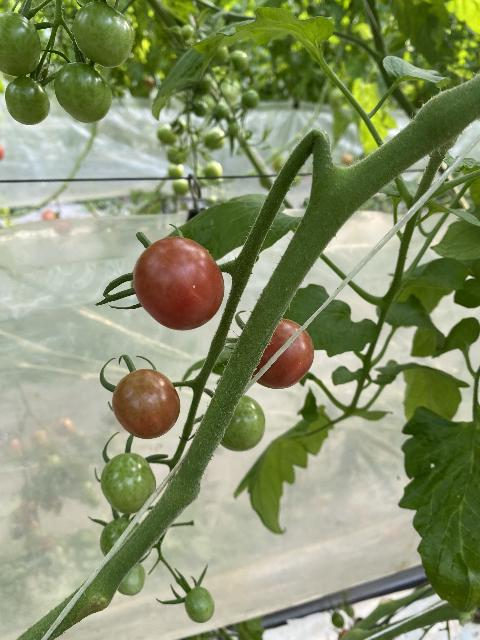l_fully_ripened: (132, 237, 225, 330), (250, 319, 315, 389)
l_green: (72, 2, 135, 68), (53, 62, 112, 123), (100, 452, 157, 515), (0, 11, 42, 77), (219, 395, 266, 452), (4, 76, 50, 126), (100, 518, 139, 561), (184, 586, 216, 623), (117, 562, 145, 596)
l_half_ripened: (111, 367, 181, 438)
